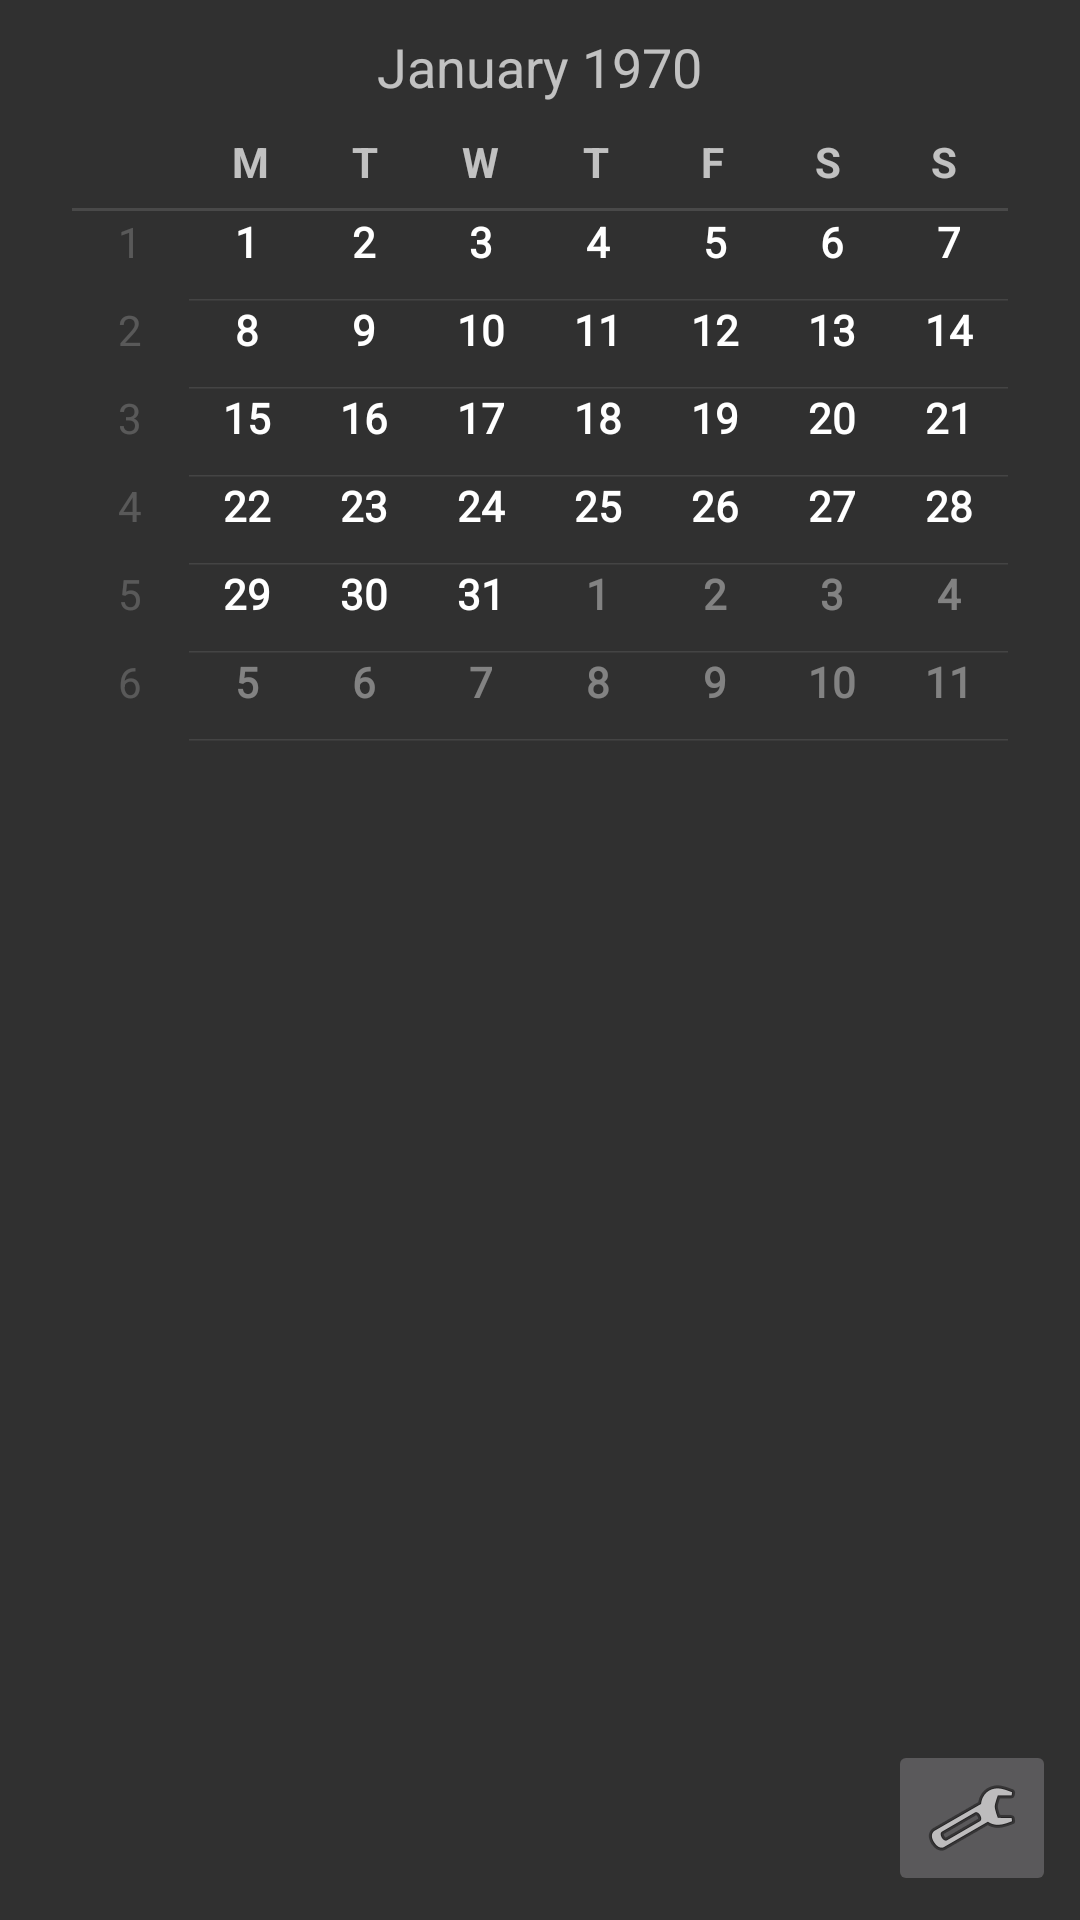

Screen size 1080 × 1920. Icon name, then its box in pixels as rect(x1, y1, x2, y2):
Настройки: rect(900, 1758, 1044, 1878)
